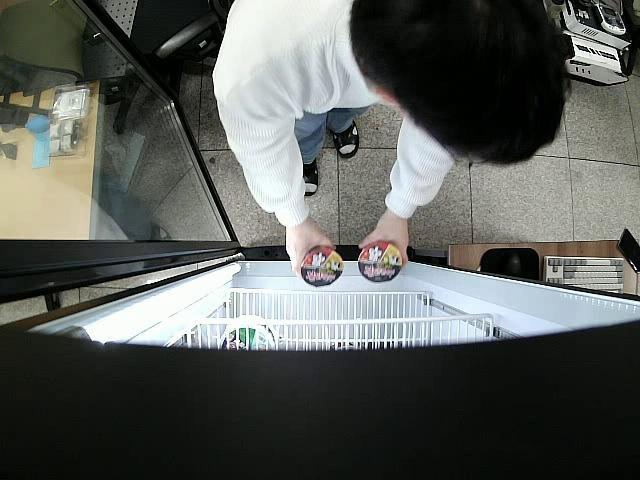08_buldak_S: (356, 242, 404, 284), (300, 244, 343, 286)
